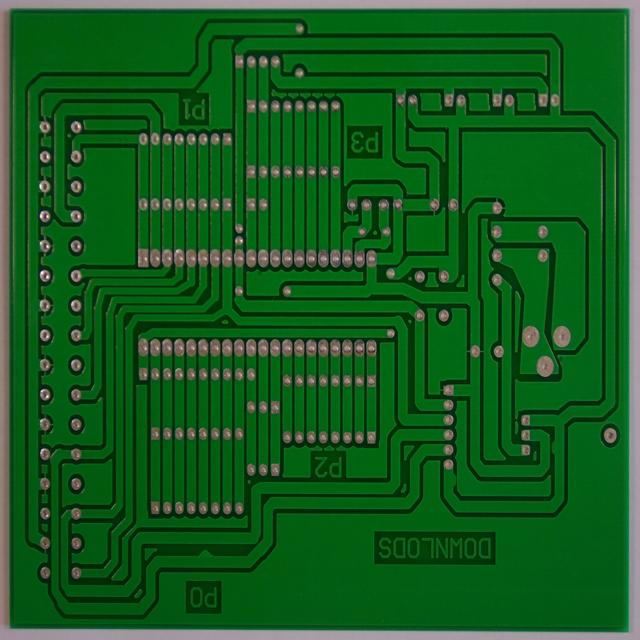spur: (193, 545, 216, 563), (546, 434, 558, 459), (447, 468, 458, 492)
